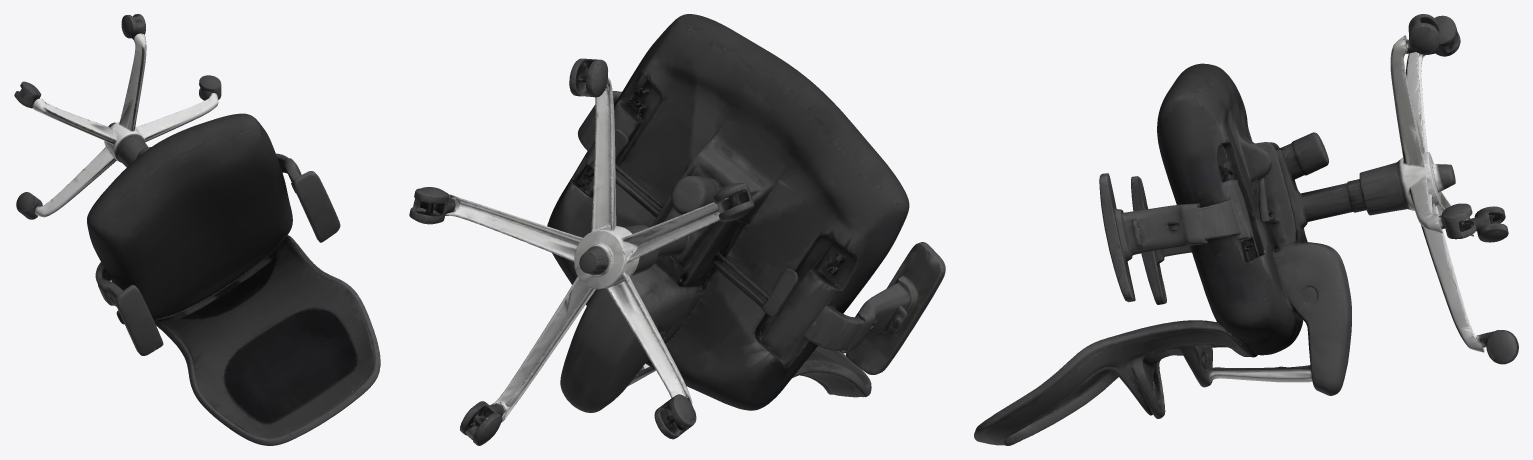
Rendered from final_2nd_floor_16.glb.
3 renders of one model, left to right at view 1: azimuth 30°, elevation 25°; view 2: azimuth 150°, elevation 25°; view 3: azimuth 270°, elevation 25°, orthographic. The views are drawn at different scales.
Parts seen in each view (by area): view 1: Ramdhan.015; view 2: Ramdhan.015; view 3: Ramdhan.015.
Part boxes in pixels (x1,y1,x2,y2): Ramdhan.015: [14, 14, 380, 445]; Ramdhan.015: [409, 14, 945, 445]; Ramdhan.015: [974, 14, 1518, 445].
Bounding box in the file's own units: 0.0206 × 0.0277 × 0.0319.
Materials: 1 (1 with a texture image).
